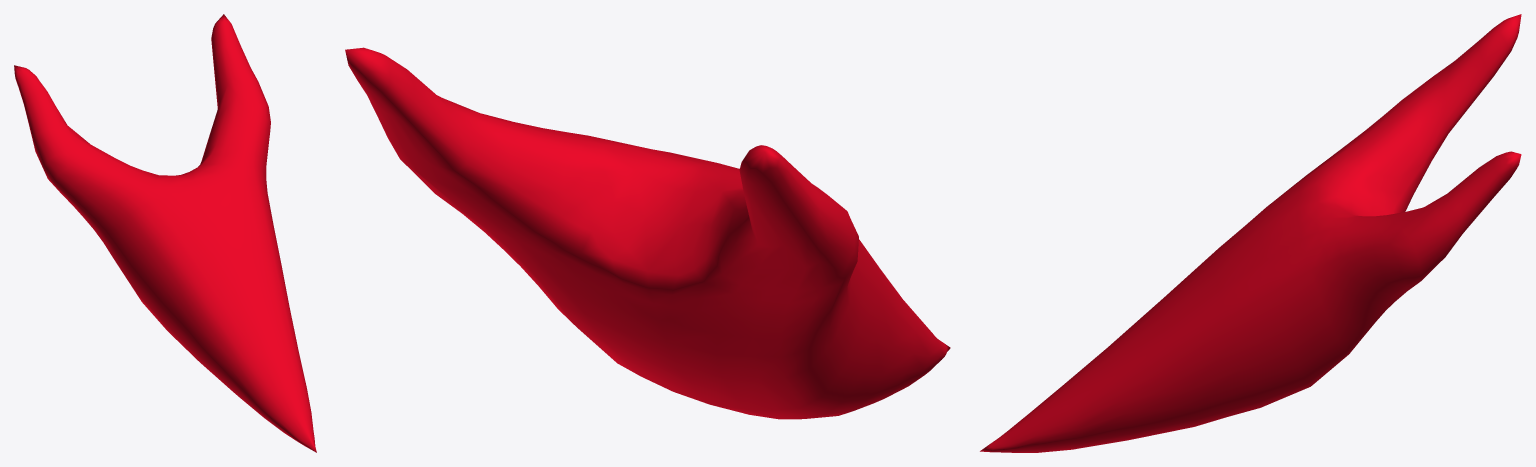
Rendered from Bee_Stinger.fbx.
The picture shows the model from 3 angles, left to right: view 1: azimuth 30°, elevation 25°; view 2: azimuth 150°, elevation 25°; view 3: azimuth 270°, elevation 25°; orthographic projection. The views are drawn at different scales.
Visible parts, largest first — view 1: Plane.001; view 2: Plane.001; view 3: Plane.001.
Boxes of the visible parts, x1,y1,x2,y2 form: Plane.001: (14, 14, 316, 452); Plane.001: (345, 47, 950, 419); Plane.001: (980, 14, 1521, 452).
Bounding box in the file's own units: 157 × 179 × 239.
